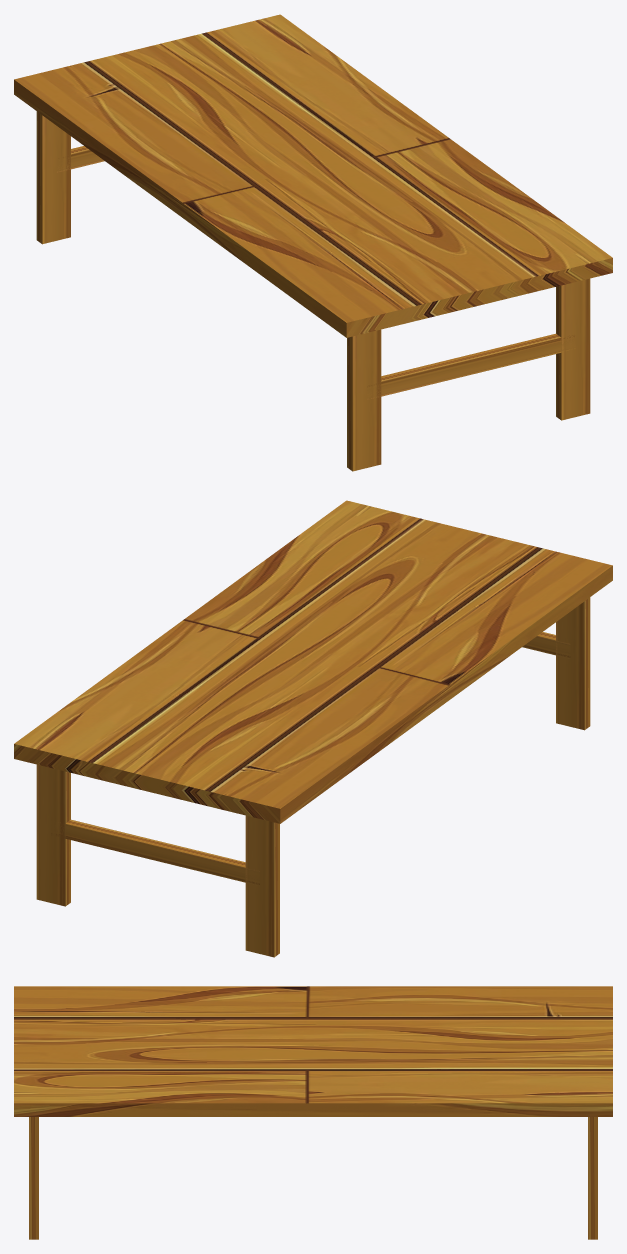
The model's file is Sheif.fbx.
3 views of the same model, one above another, from view 1: azimuth 30°, elevation 25°; view 2: azimuth 150°, elevation 25°; view 3: azimuth 270°, elevation 25° (orthographic). The views are drawn at different scales.
Parts seen in each view (by area): view 1: Sheif; view 2: Sheif; view 3: Sheif.
Part boxes in pixels (<box>): Sheif: <box>14,14,612,471</box>; Sheif: <box>14,500,612,957</box>; Sheif: <box>14,986,612,1239</box>.
Bounding box in the file's own units: 331 × 188 × 715.
